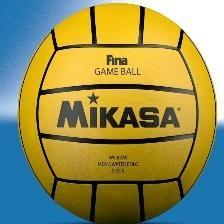Sports-Ball: (18, 2, 218, 223)
